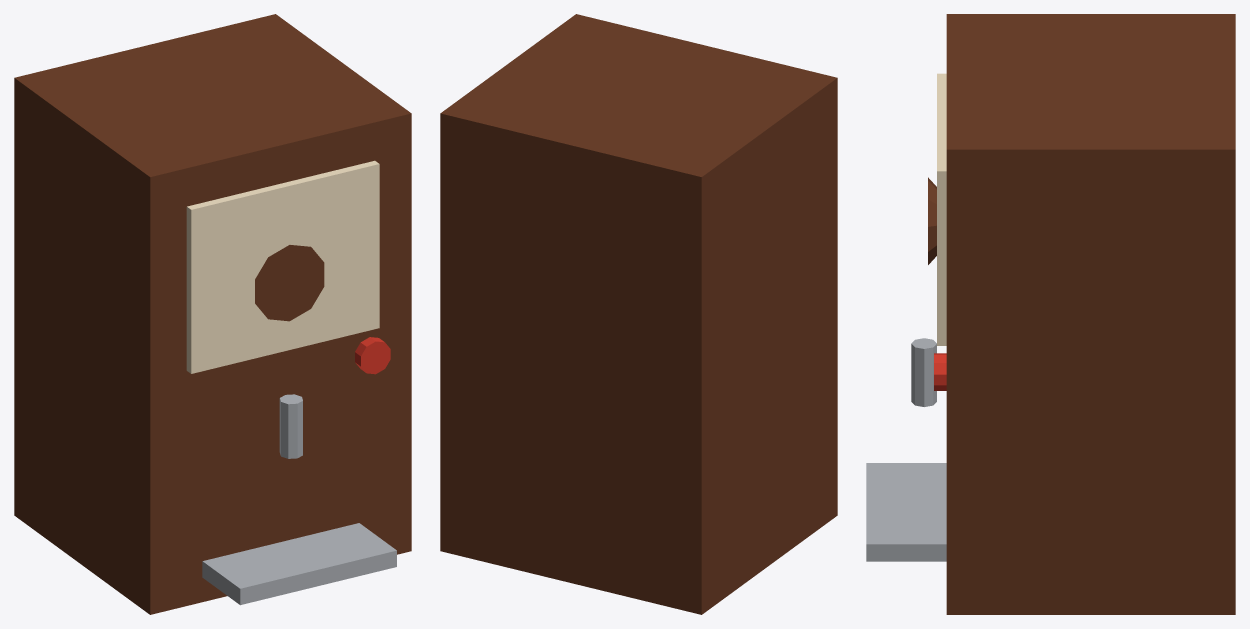
Rendered from cocoa_machine.glb.
3 views of the same model, side by side, from view 1: azimuth 30°, elevation 25°; view 2: azimuth 150°, elevation 25°; view 3: azimuth 270°, elevation 25° (orthographic). The views are drawn at different scales.
Visible parts, largest first — view 1: body_cocoa_brown, panel_cocoa_cream, tray_cocoa_steel, cup_cocoa_brown, tap_cocoa_steel, button_cocoa_button; view 2: body_cocoa_brown; view 3: body_cocoa_brown, tray_cocoa_steel, panel_cocoa_cream, tap_cocoa_steel, cup_cocoa_brown.
Part boxes in pixels (bbox=[...]): body_cocoa_brown: bbox=[14, 14, 411, 614]; panel_cocoa_cream: bbox=[186, 160, 379, 373]; tray_cocoa_steel: bbox=[202, 523, 396, 605]; cup_cocoa_brown: bbox=[255, 245, 324, 321]; tap_cocoa_steel: bbox=[279, 394, 302, 458]; button_cocoa_button: bbox=[355, 337, 390, 374]; body_cocoa_brown: bbox=[440, 14, 837, 614]; body_cocoa_brown: bbox=[946, 14, 1235, 614]; tray_cocoa_steel: bbox=[866, 463, 946, 561]; panel_cocoa_cream: bbox=[937, 73, 946, 345]; tap_cocoa_steel: bbox=[911, 338, 936, 406]; cup_cocoa_brown: bbox=[928, 177, 936, 264].
Size of the model in its own units: 0.5 by 0.8 by 0.575.
